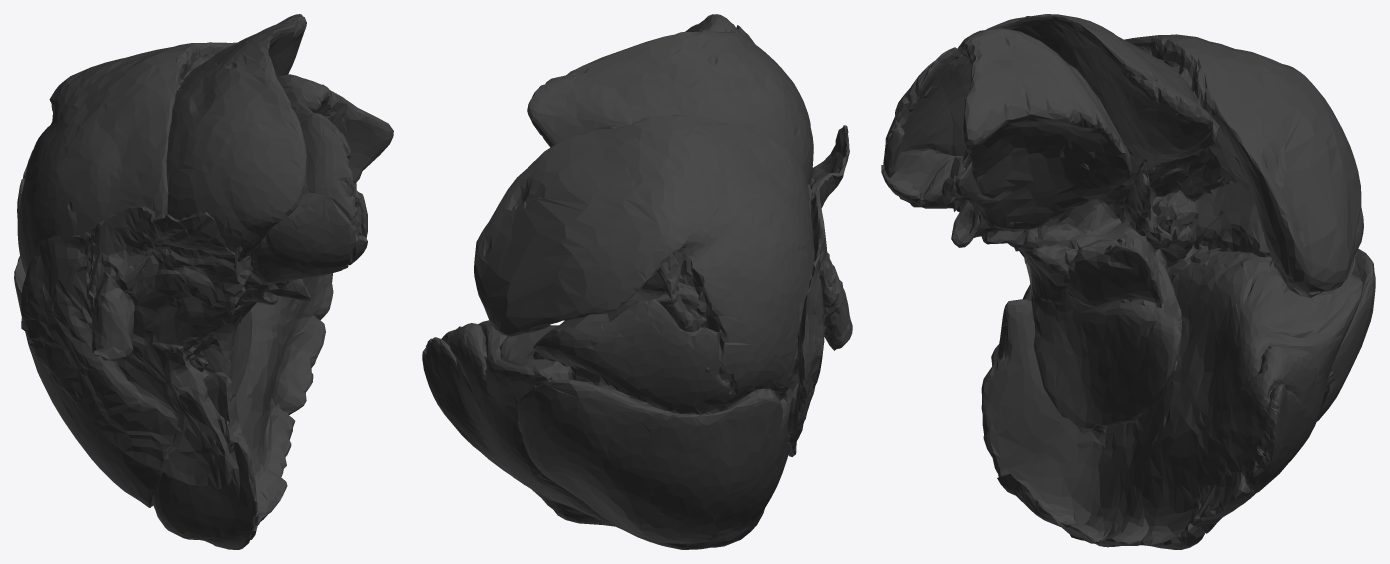
The picture shows the model from 3 angles, left to right: view 1: azimuth 30°, elevation 25°; view 2: azimuth 150°, elevation 25°; view 3: azimuth 270°, elevation 25°; orthographic projection. The views are drawn at different scales.
Parts seen in each view (by area): view 1: LP_002; view 2: LP_002; view 3: LP_002.
Part boxes in pixels (left/top/right/bottom): LP_002: left=14, top=14, right=393, bottom=549; LP_002: left=422, top=14, right=852, bottom=549; LP_002: left=881, top=14, right=1375, bottom=549.
Size of the model in its own units: 3.01 by 4.1 by 3.43.
1 material, 1 textured.
